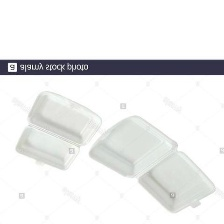foam_box: (84, 111, 220, 217), (11, 88, 105, 174)
